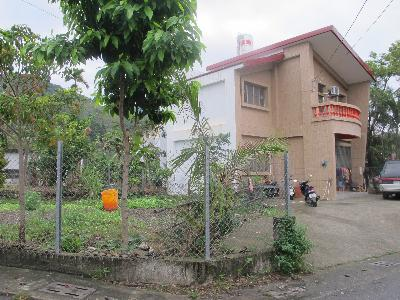bucket: (100, 187, 120, 210)
